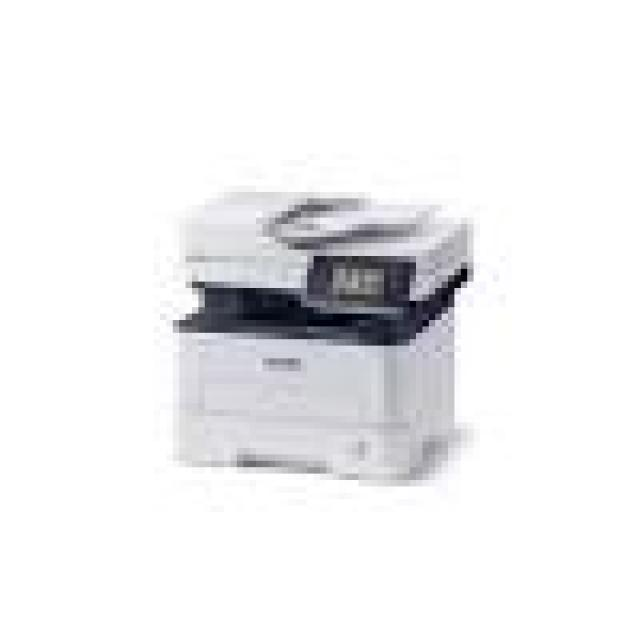printer: (147, 166, 530, 532)
